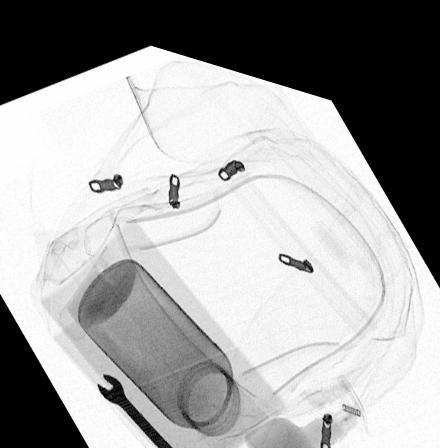Wrench: (95, 366, 185, 448)
